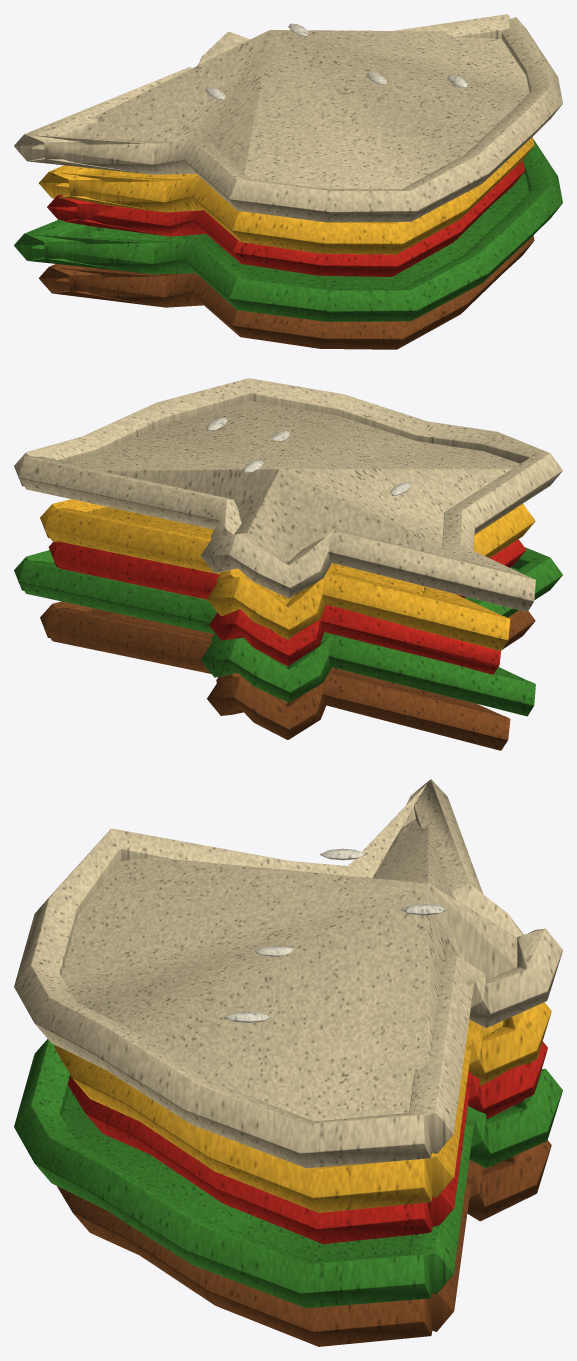
The model's file is food-09-half.glb.
3 views of the same model, one above another, from view 1: azimuth 30°, elevation 25°; view 2: azimuth 150°, elevation 25°; view 3: azimuth 270°, elevation 25° (orthographic). The views are drawn at different scales.
Visible parts, largest first — view 1: Food; view 2: Food; view 3: Food.
Boxes of the visible parts, x1,y1,x2,y2 form: Food: (14,14,562,349); Food: (14,378,562,750); Food: (14,779,562,1346).
Size of the model in its own units: 0.6102 by 0.2627 by 0.4086.
1 material, 1 textured.
